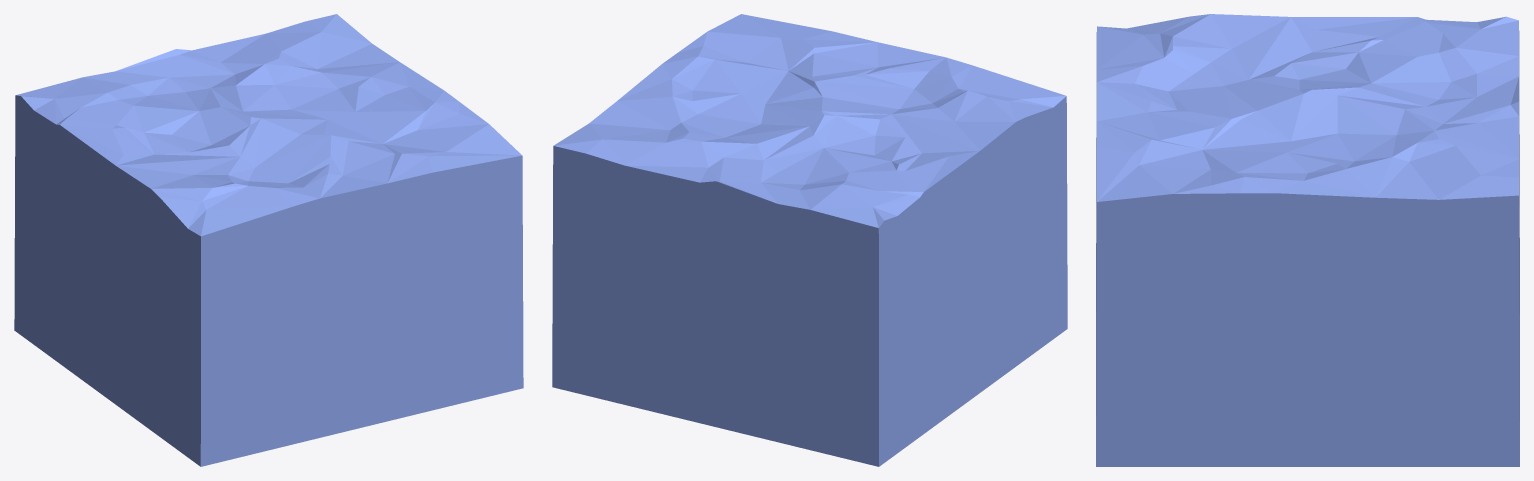
The model's file is Water.fbx.
3 renders of one model, left to right at view 1: azimuth 30°, elevation 25°; view 2: azimuth 150°, elevation 25°; view 3: azimuth 270°, elevation 25°, orthographic. The views are drawn at different scales.
Parts seen in each view (by area): view 1: Water; view 2: Water; view 3: Water.
Part boxes in pixels (x1,y1,x2,y2): Water: (14,14,523,466); Water: (552,14,1067,466); Water: (1096,14,1519,466).
Bounding box in the file's own units: 100 × 72.83 × 100.
